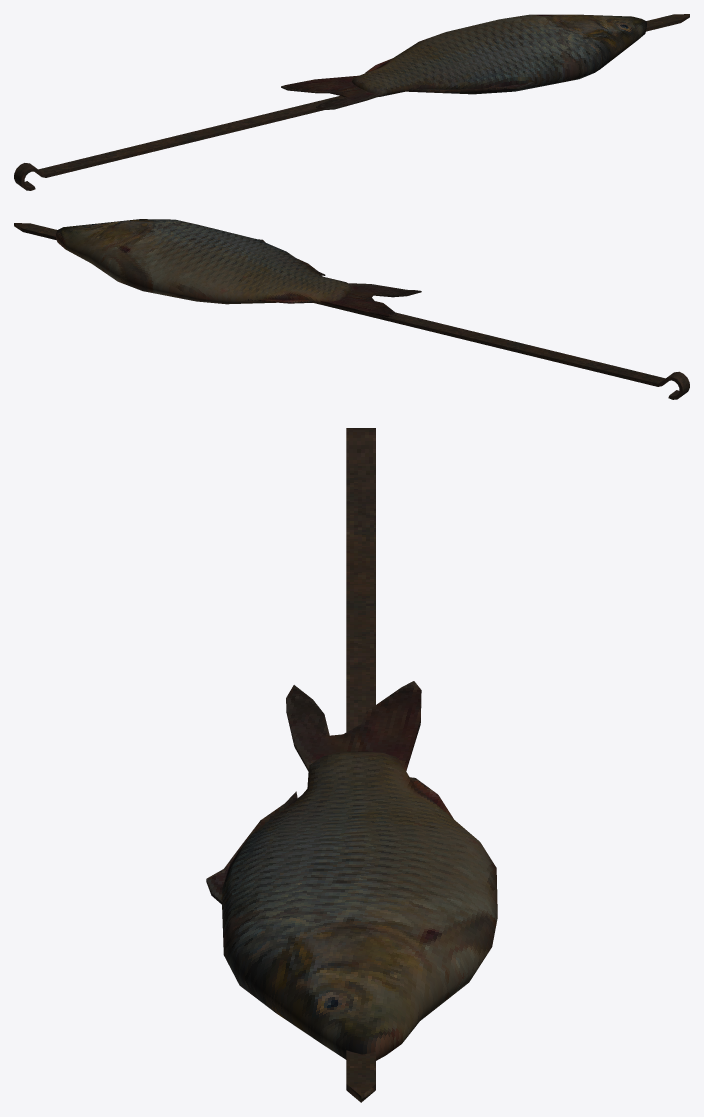
The model's file is melee_fish_skewer_mx_1.glb.
The picture shows the model from 3 angles, top to bottom: view 1: azimuth 30°, elevation 25°; view 2: azimuth 150°, elevation 25°; view 3: azimuth 270°, elevation 25°; orthographic projection. The views are drawn at different scales.
Visible parts, largest first — view 1: melee_fish_skewer_mx_1; view 2: melee_fish_skewer_mx_1; view 3: melee_fish_skewer_mx_1.
Boxes of the visible parts, x1=… form: melee_fish_skewer_mx_1: x1=14, y1=14, x2=689, y2=190; melee_fish_skewer_mx_1: x1=14, y1=219, x2=689, y2=399; melee_fish_skewer_mx_1: x1=206, y1=428, x2=497, y2=1102.
Bounding box in the file's own units: 1.06 × 0.0646 × 0.1985.
Materials: 2 (2 with a texture image).
